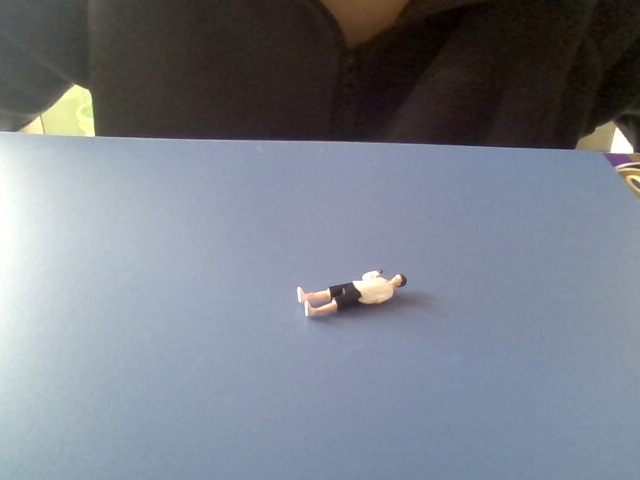fall: (286, 262, 413, 321)
